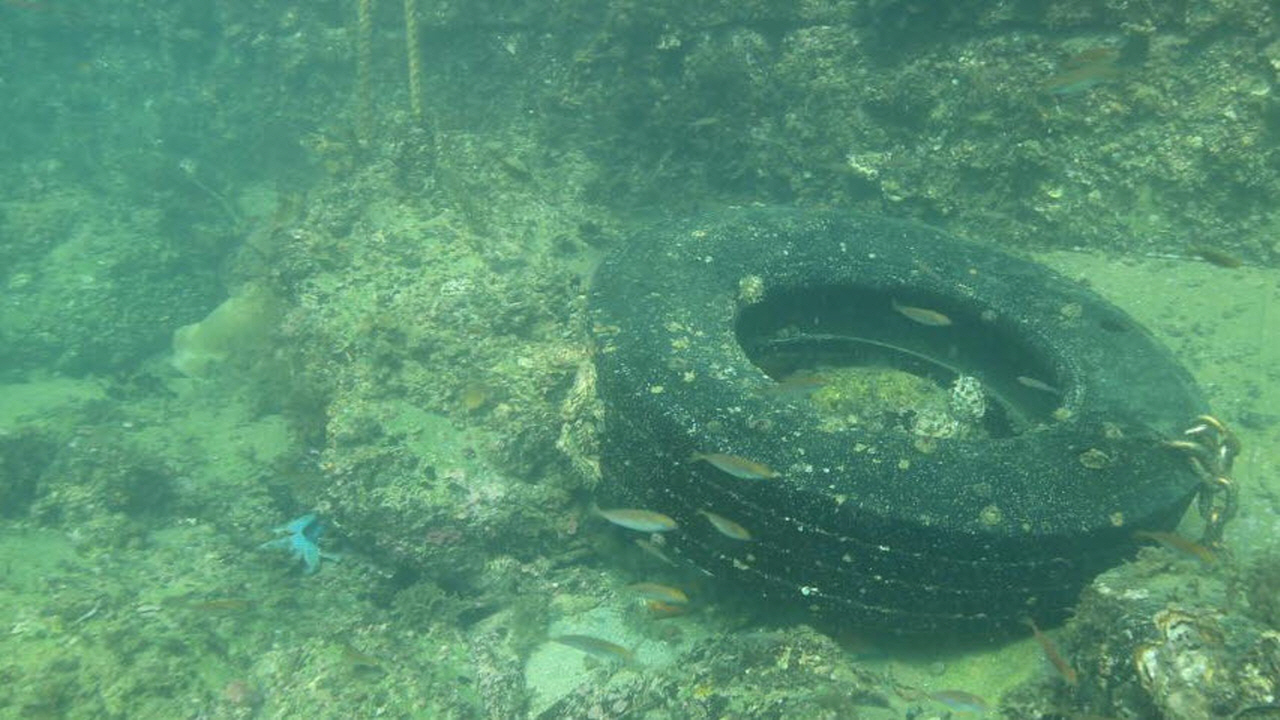tire: (584, 206, 1214, 635)
